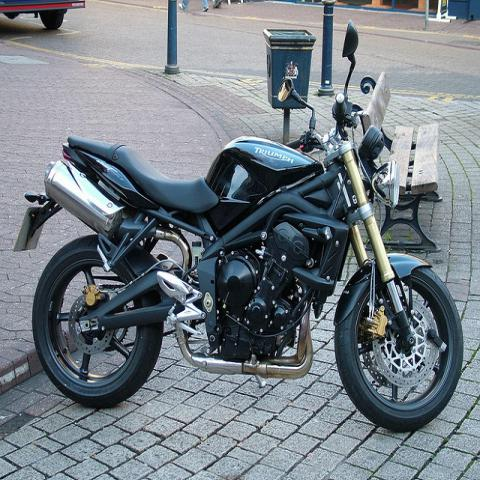motorcycle: (16, 17, 461, 432)
truck: (1, 1, 86, 30)
